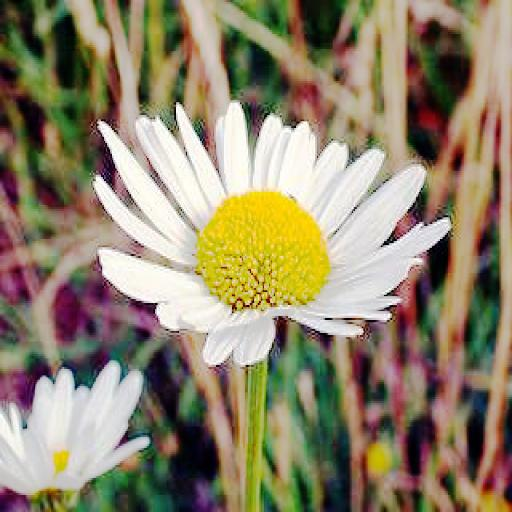daisy: (100, 111, 422, 346), (2, 369, 142, 491)
